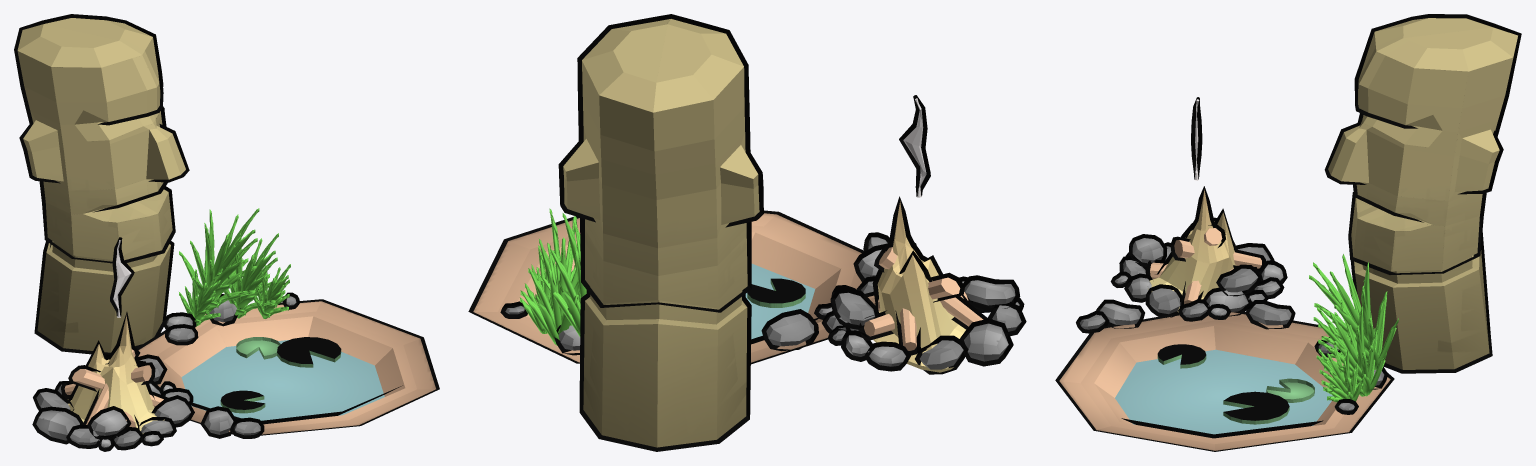
Rendered from Evento Patagonia.fbx.
3 views of the same model, side by side, from view 1: azimuth 30°, elevation 25°; view 2: azimuth 150°, elevation 25°; view 3: azimuth 270°, elevation 25° (orthographic). The views are drawn at different scales.
Visible parts, largest first — view 1: Cylinder.015; view 2: Cylinder.015; view 3: Cylinder.015.
Part boxes in pixels (<box>): Cylinder.015: <box>14,14,439,451</box>; Cylinder.015: <box>468,14,1026,451</box>; Cylinder.015: <box>1055,14,1521,451</box>.
Size of the model in its own units: 692 by 545 by 676.
3 materials, 1 textured.
